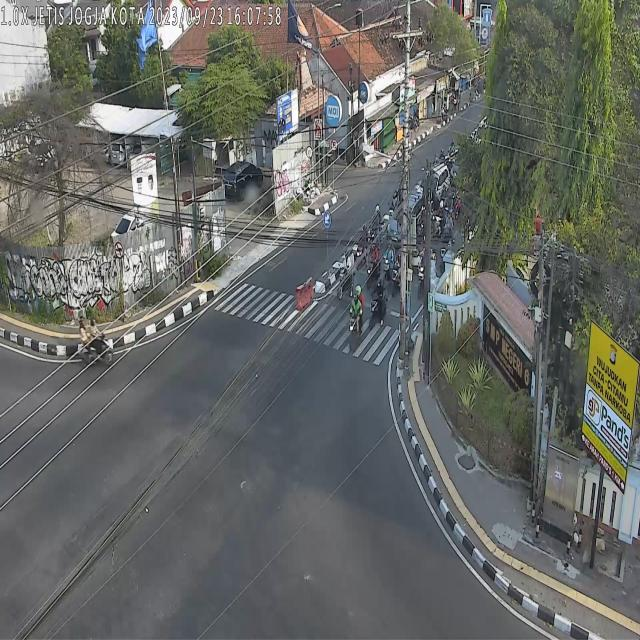car: (388, 190, 423, 240), (412, 164, 452, 200)
motorcycle: (76, 312, 114, 368), (346, 284, 364, 351), (369, 274, 386, 332), (338, 246, 354, 299), (368, 205, 384, 250), (366, 240, 380, 289), (382, 240, 396, 288), (355, 224, 369, 270), (391, 252, 401, 298), (417, 250, 426, 298), (433, 200, 444, 237)
